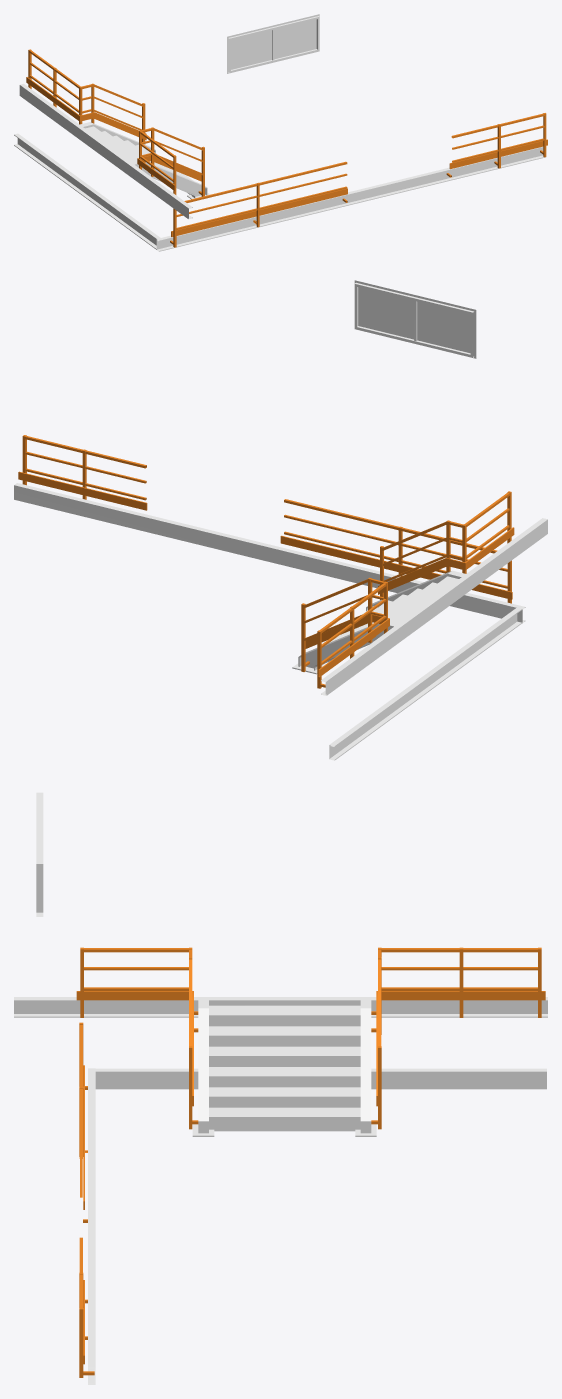
File: SM_H_Building_Tide_Ventilate_01d_ATLAS.fbx
3 renders of one model, top to bottom at view 1: azimuth 30°, elevation 25°; view 2: azimuth 150°, elevation 25°; view 3: azimuth 270°, elevation 25°, orthographic. The views are drawn at different scales.
Visible parts, largest first — view 1: SM_H_Building_Tide_Ventilate_01d_ATLAS; view 2: SM_H_Building_Tide_Ventilate_01d_ATLAS; view 3: SM_H_Building_Tide_Ventilate_01d_ATLAS.
Boxes of the visible parts, x1,y1,x2,y2 form: SM_H_Building_Tide_Ventilate_01d_ATLAS: (14,14,547,251); SM_H_Building_Tide_Ventilate_01d_ATLAS: (14,280,547,760); SM_H_Building_Tide_Ventilate_01d_ATLAS: (14,792,547,1384).
Bounding box in the file's own units: 1058 × 798 × 557.
